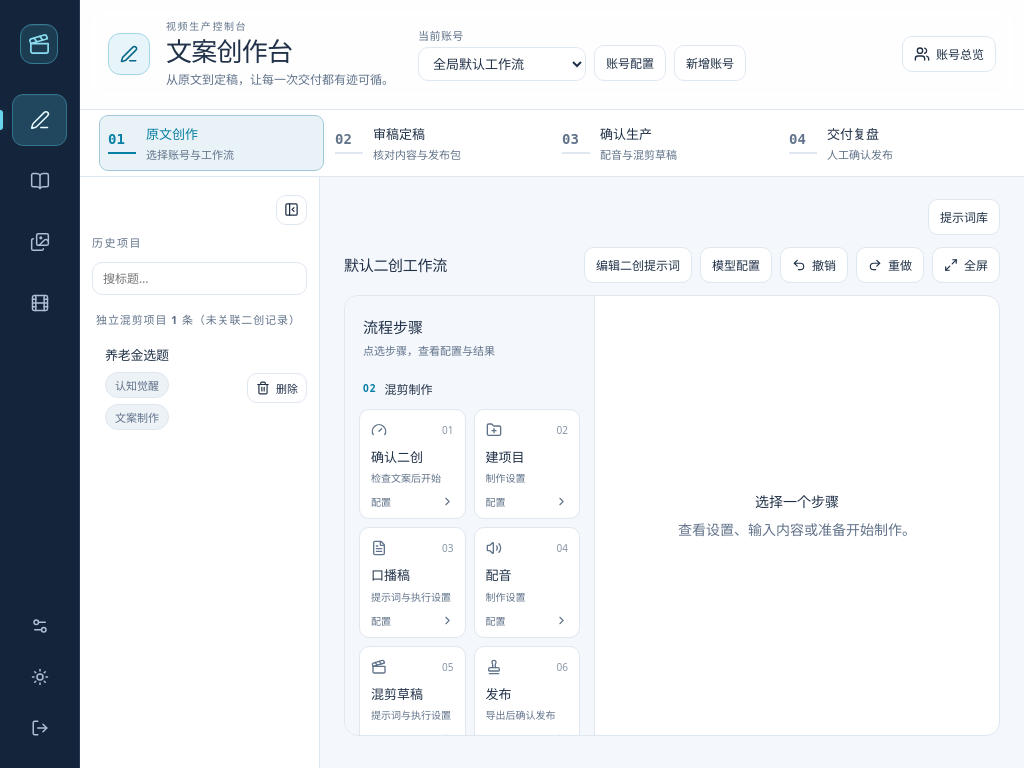
Test case: tasks show their actual model and awaiting replies keep it read-only
The image size is (1024, 768).
Step 1. Click the text "养老金选题" → (137, 355), box [105, 346, 169, 364]
(page scrolled)
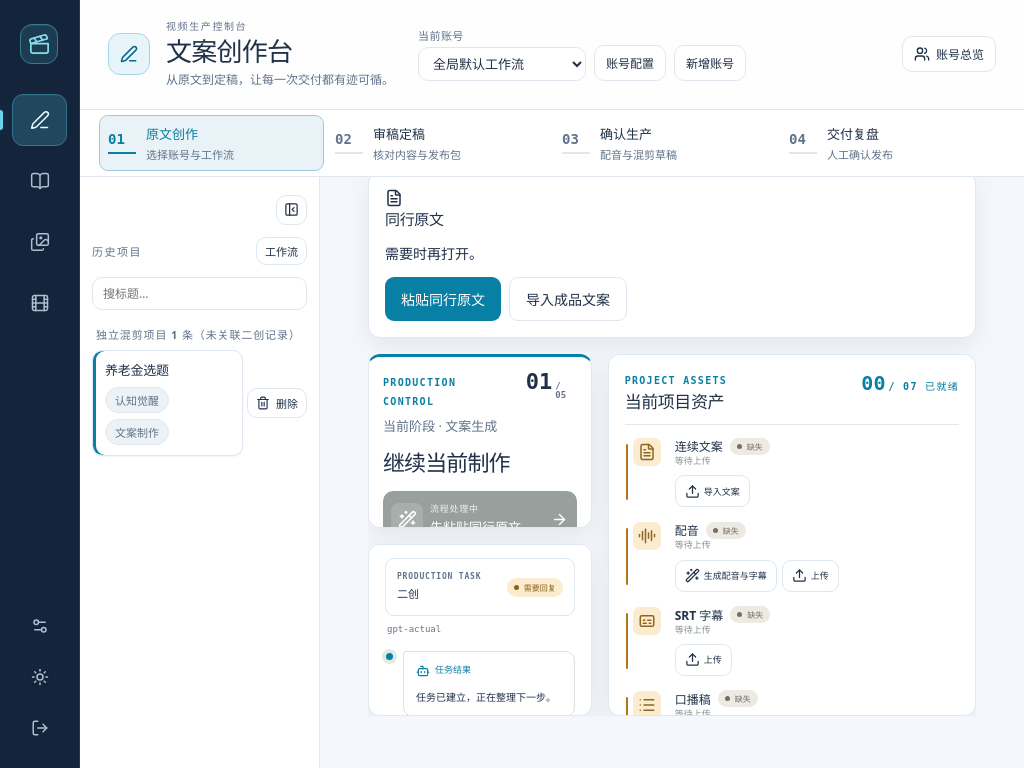
Expected: the text "gpt-actual" is shown, [387, 624, 441, 634]
